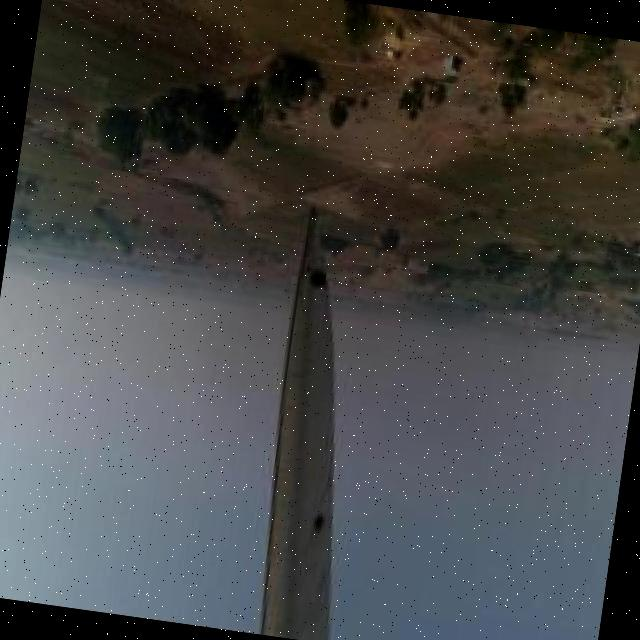Dirt: (260, 207, 337, 640)
Oil LEAKAGE: (310, 268, 327, 290)
Pin Hole: (310, 512, 330, 534), (305, 262, 314, 276)
